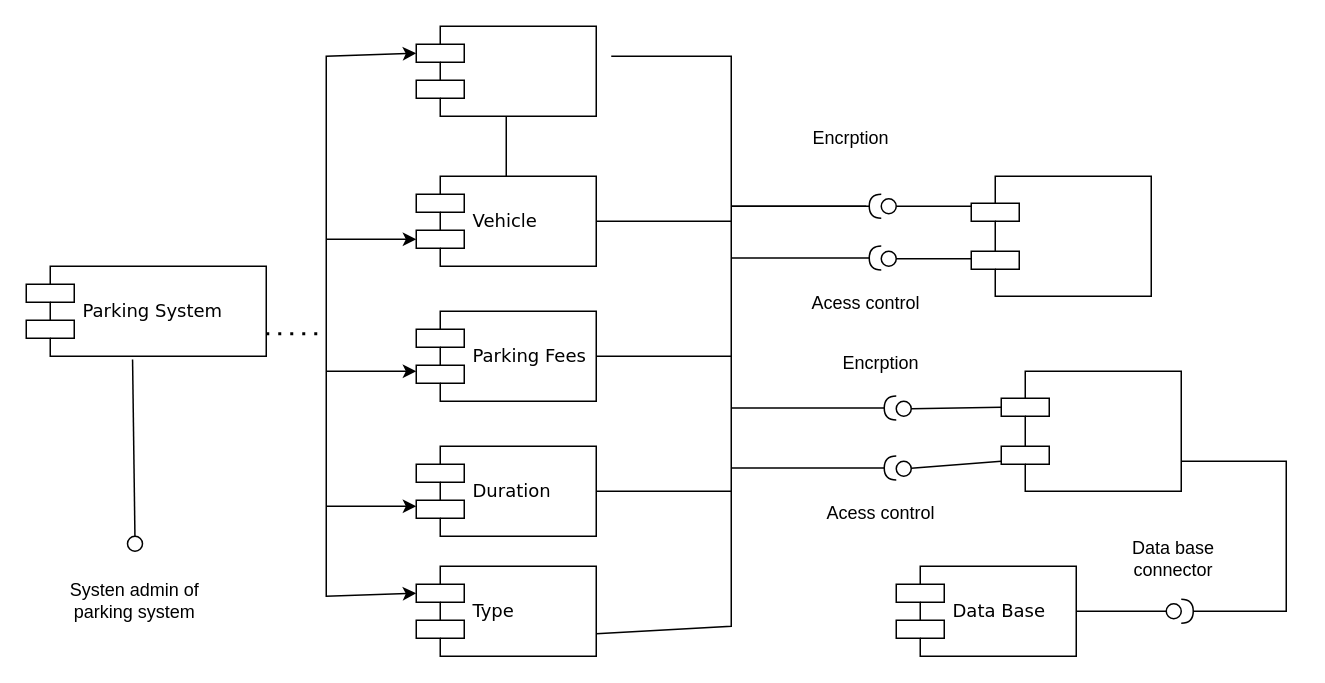
Some shapes in this 1325 by 683 pixel diagram are drawn without their labels. The centre of each missing label's shape, as x and y in pixels:
"Parking Slot" belongs at (x=505, y=70).
"Persistence" belongs at (x=1090, y=430).
"Security" belongs at (x=1060, y=235).
